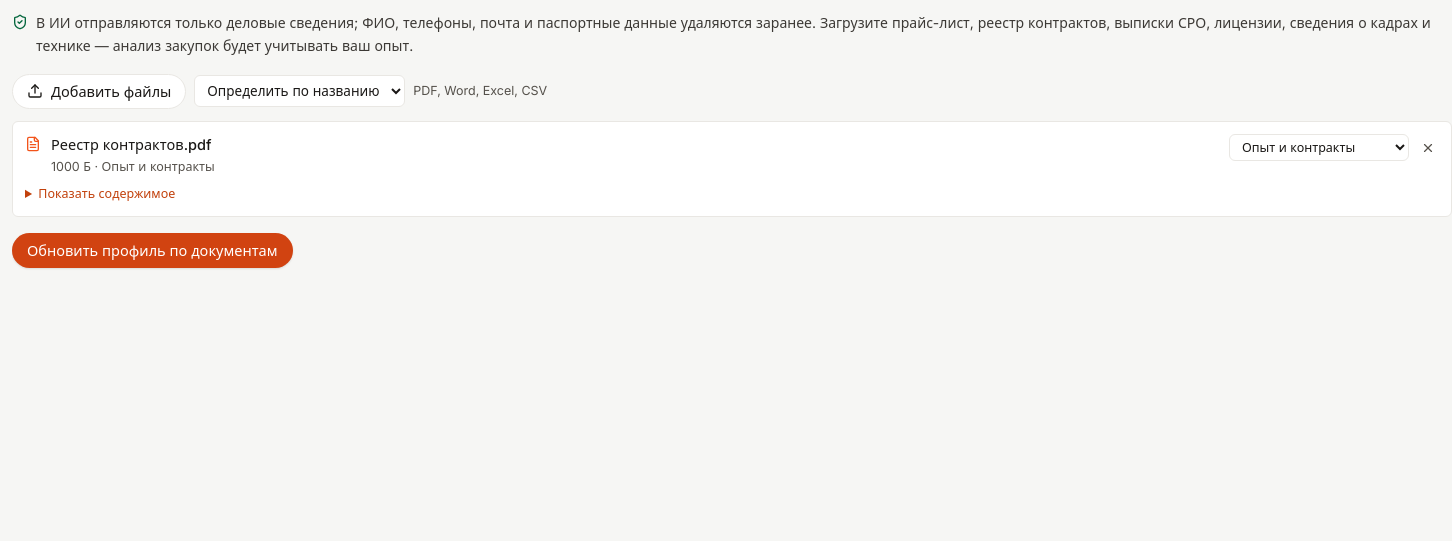
CompanyFactsSection › сначала предпросмотр «Что уйдёт в ИИ», отправка — только по второму нажатию
The width and height of the screenshot is (1452, 541).
Click the button "Обновить профиль по документам": [152, 250] box [12,232,292,268]
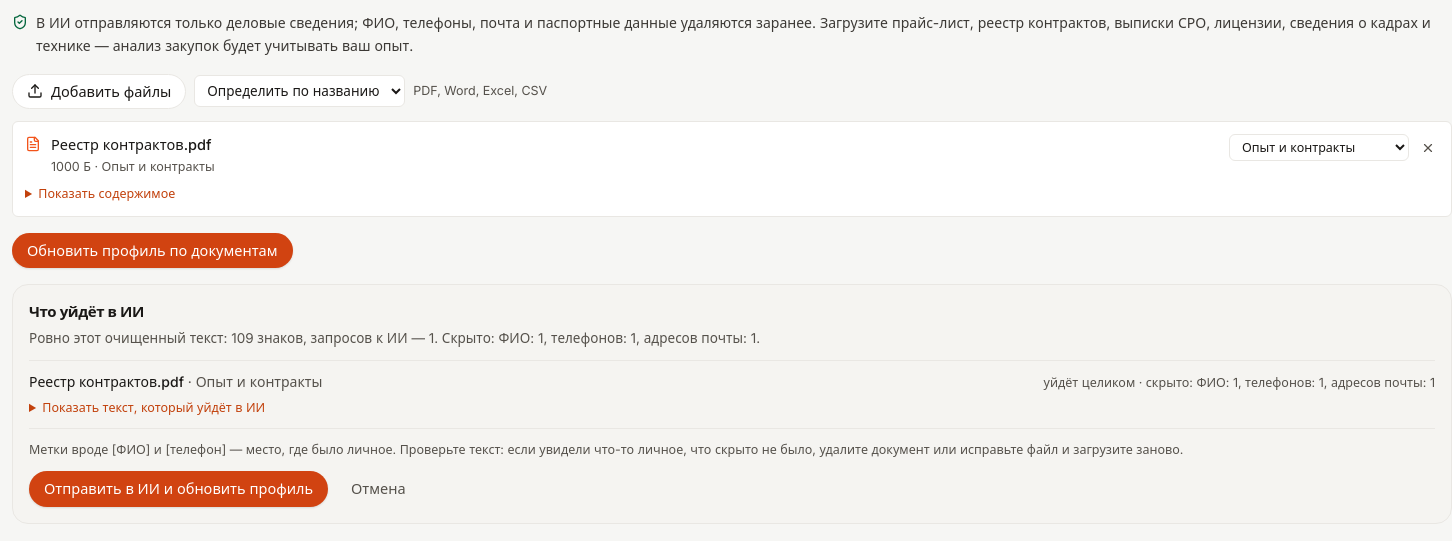
Now the heading "Что уйдёт в ИИ" is shown, box [29,302,144,321]
Now the text with test id "send-preview-summary" shows "Скрыто: ФИО: 1, телефонов: 1, адресов почты: 1", box [442,330,760,346]
Now the element with test id "send-preview" shows "[ФИО]", box [29,442,1183,456]
